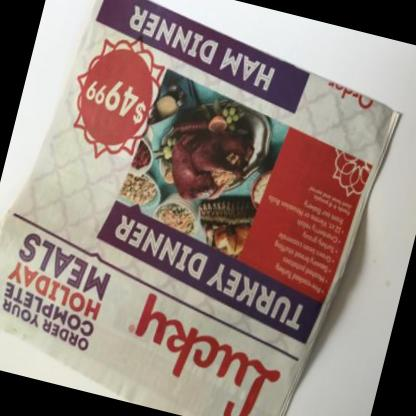Paper: (0, 0, 400, 416)
